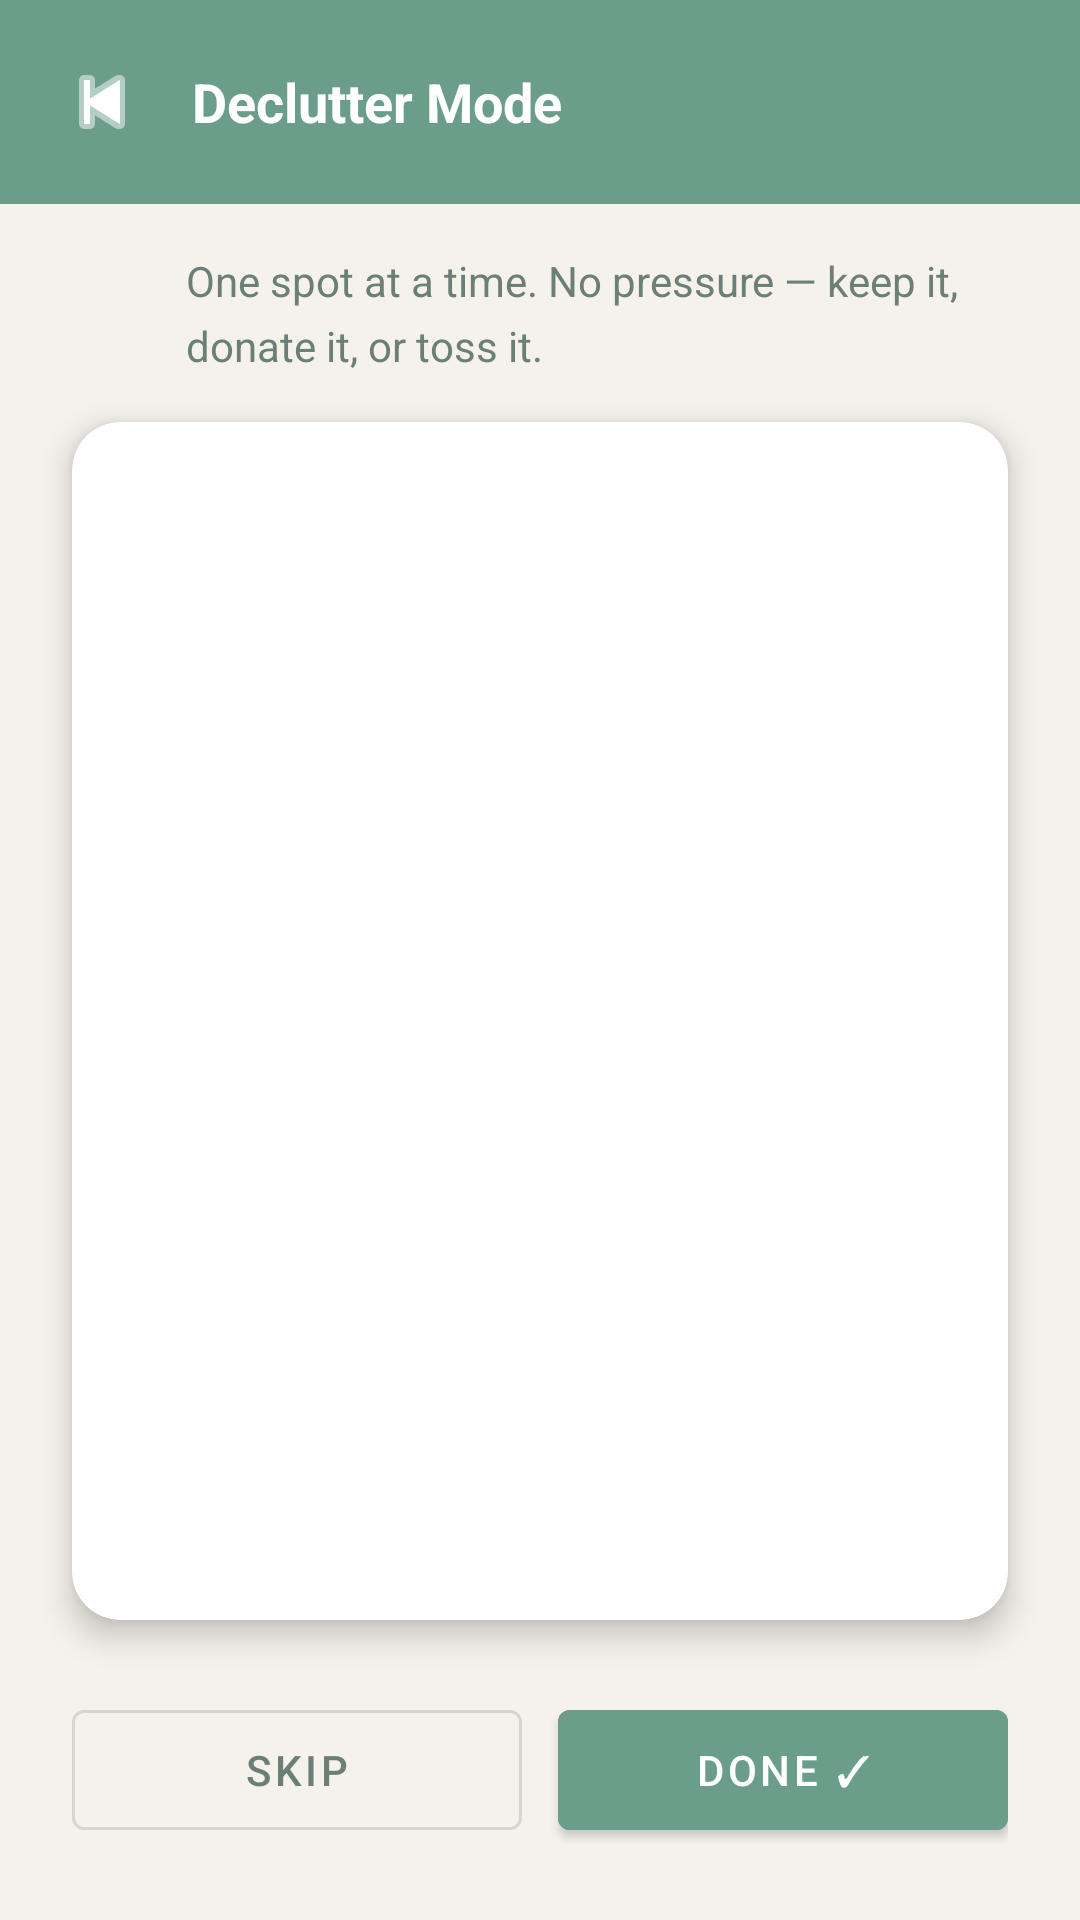

Icon click points for this 1080 x 1920 phone screenshot, format [x,y]:
Back: [102,102]
